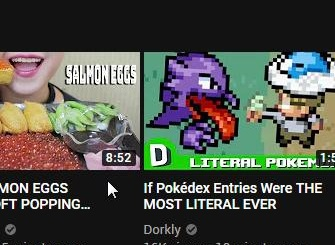cursor: (105, 179, 119, 199)
